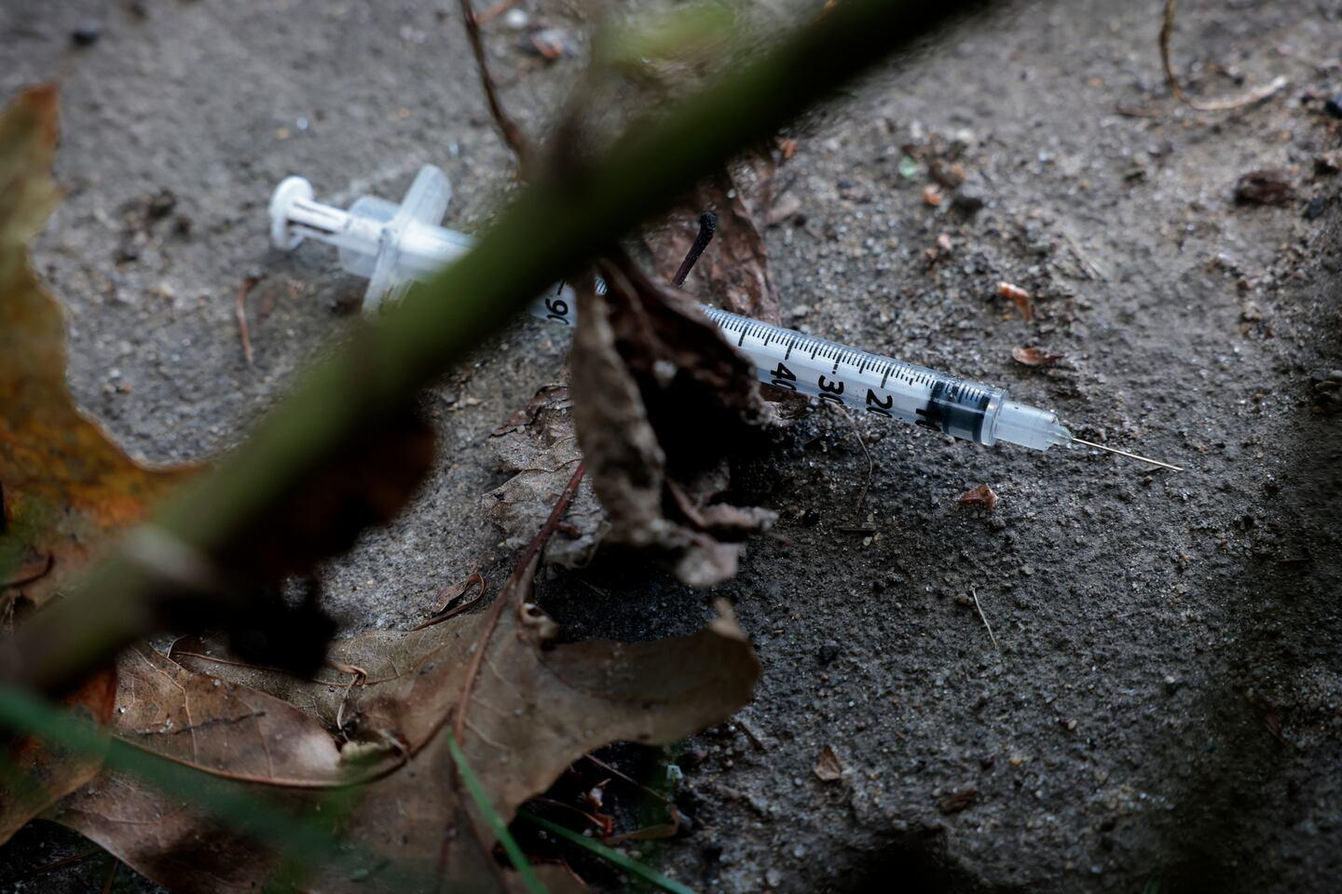Syringe: (702, 305, 1181, 469)
